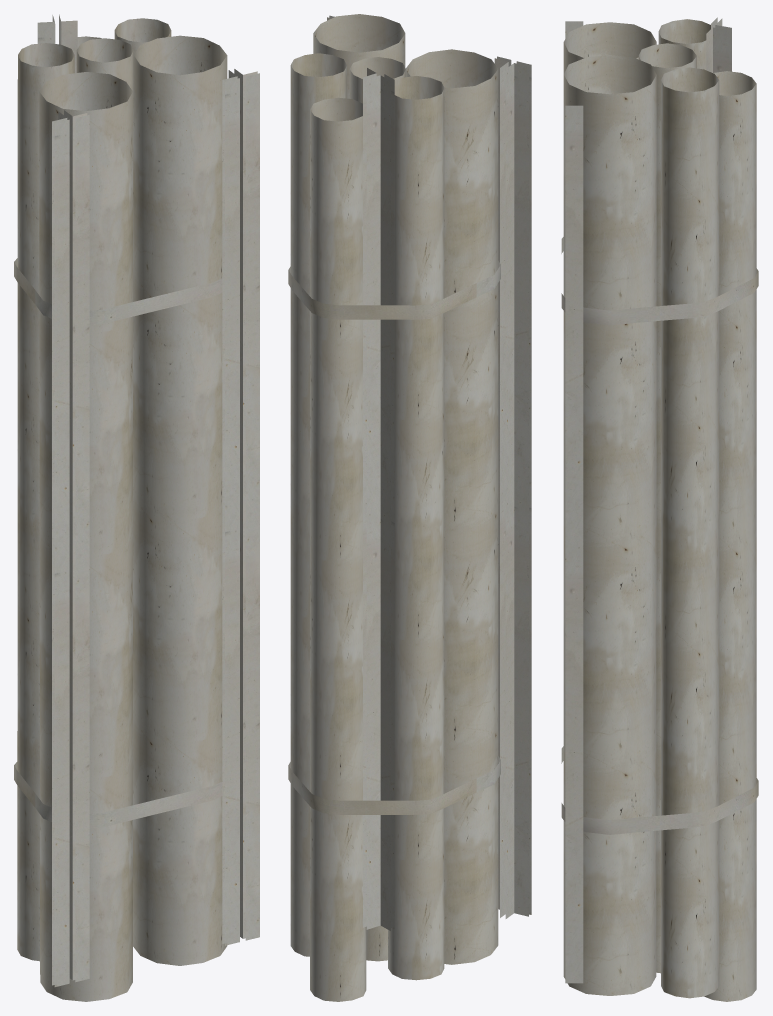
Rendered from ind4_pipes_LOD2.fbx.
The picture shows the model from 3 angles, left to right: view 1: azimuth 30°, elevation 25°; view 2: azimuth 150°, elevation 25°; view 3: azimuth 270°, elevation 25°; orthographic projection. The views are drawn at different scales.
Parts seen in each view (by area): view 1: Mesh Object; view 2: Mesh Object; view 3: Mesh Object.
Part boxes in pixels (left/top/right/bottom): Mesh Object: left=14, top=14, right=259, bottom=1001; Mesh Object: left=288, top=14, right=531, bottom=1001; Mesh Object: left=561, top=17, right=758, bottom=1001.
Bounding box in the file's own units: 4.82 × 3.99 × 20.98.
